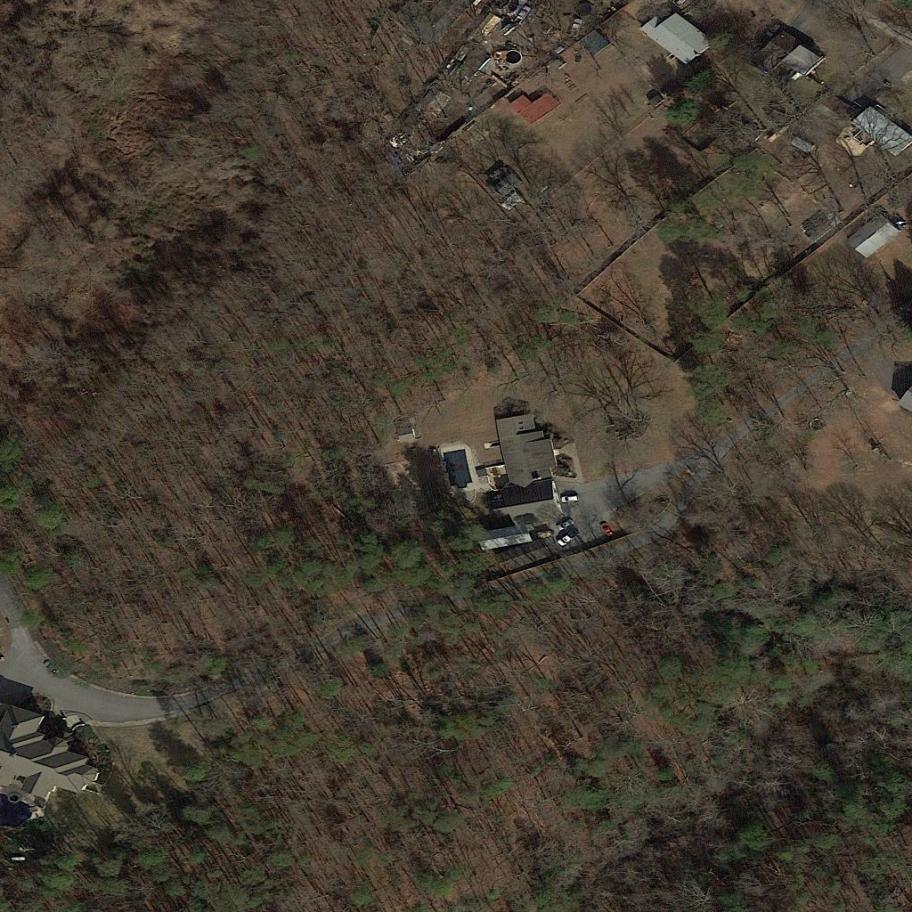large-vehicle: (555, 524, 581, 550), (513, 4, 532, 27), (569, 15, 584, 38)
small-vehicle: (764, 21, 782, 40), (555, 517, 574, 533), (600, 522, 615, 539), (560, 496, 579, 503)
